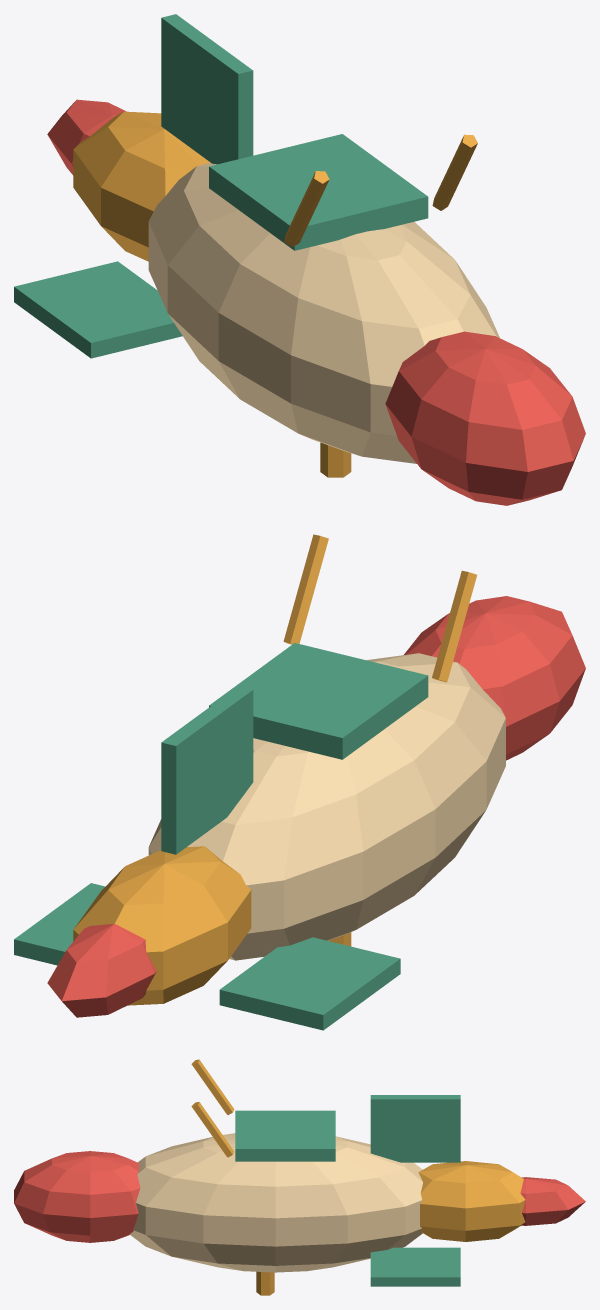
The model's file is ParkParkRocket.obj.
3 renders of one model, top to bottom at view 1: azimuth 30°, elevation 25°; view 2: azimuth 150°, elevation 25°; view 3: azimuth 270°, elevation 25°, orthographic. The views are drawn at different scales.
Parts seen in each view (by area): view 1: ParkParkRocket; view 2: ParkParkRocket; view 3: ParkParkRocket.
Part boxes in pixels (left/top/right/bottom): ParkParkRocket: left=14, top=14, right=585, bottom=505; ParkParkRocket: left=14, top=534, right=585, bottom=1030; ParkParkRocket: left=14, top=1059, right=585, bottom=1295.
Size of the model in its own units: 2.09 by 2.33 by 5.71.
